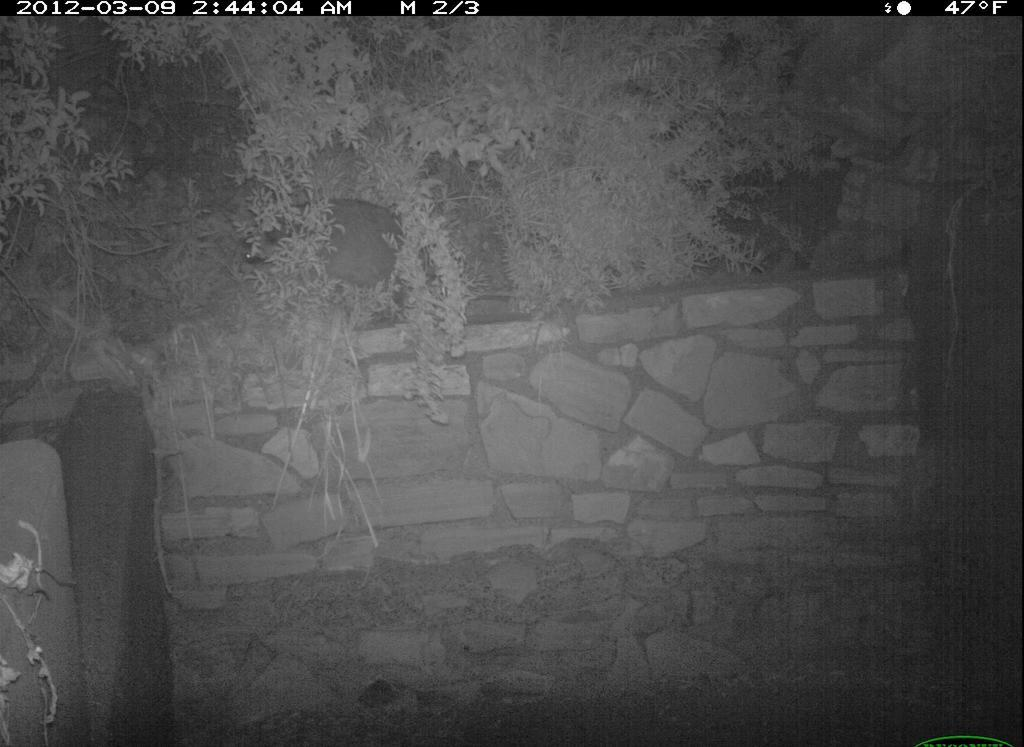raccoon: (249, 184, 436, 313)
